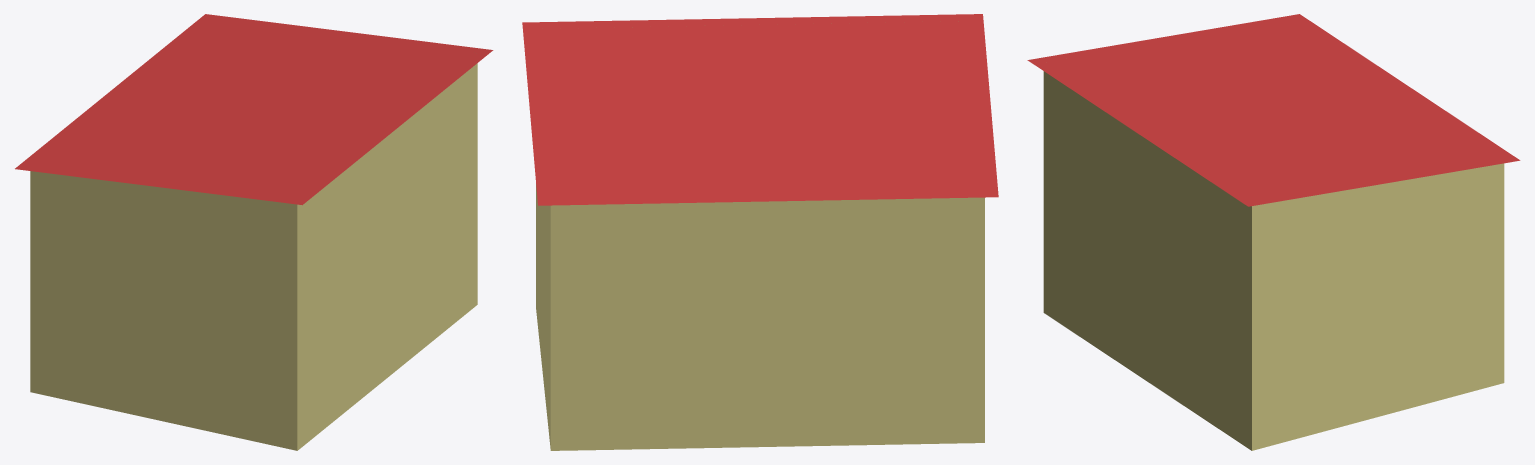
3 renders of one model, left to right at view 1: azimuth 30°, elevation 25°; view 2: azimuth 150°, elevation 25°; view 3: azimuth 270°, elevation 25°, orthographic. The views are drawn at different scales.
Size of the model in its own units: 10.99 by 10.42 by 5.85.
